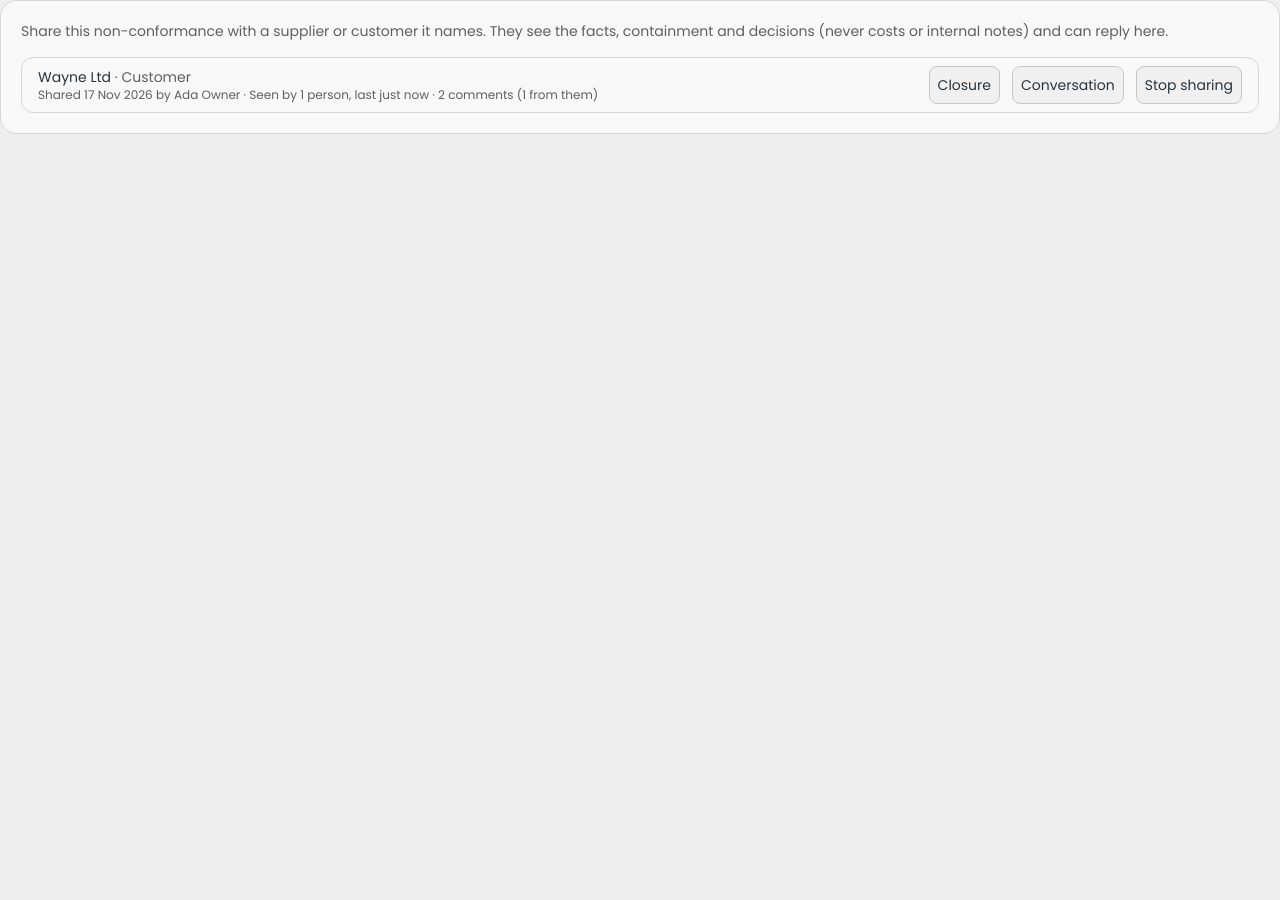
Test: closure confirmation on a customer's share (PT5b) › shows a waiting request with a way to withdraw it, and no new one
Later steps or results of the test are not shown.
Click the button with aria-label "Closure confirmation from Wayne Ltd" at [964, 85], box [929, 66, 1000, 104]
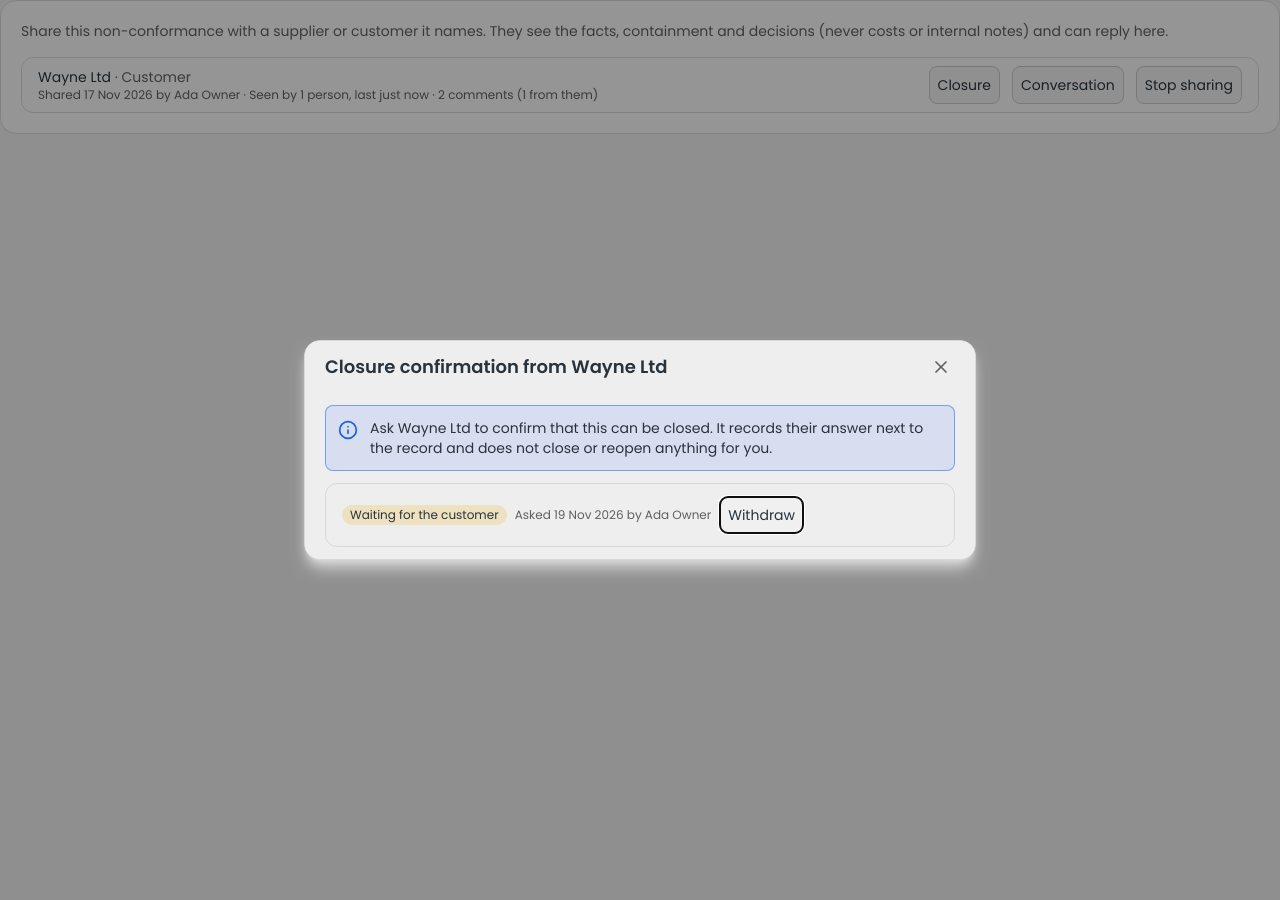
Expected: the text "Waiting for the customer" is shown, [342, 505, 507, 525]
